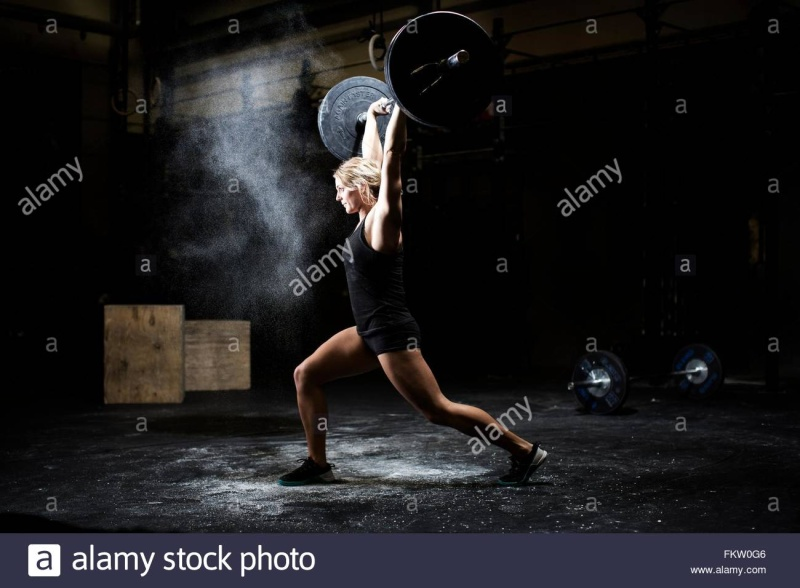barbell: (379, 8, 511, 130), (568, 348, 630, 413)
